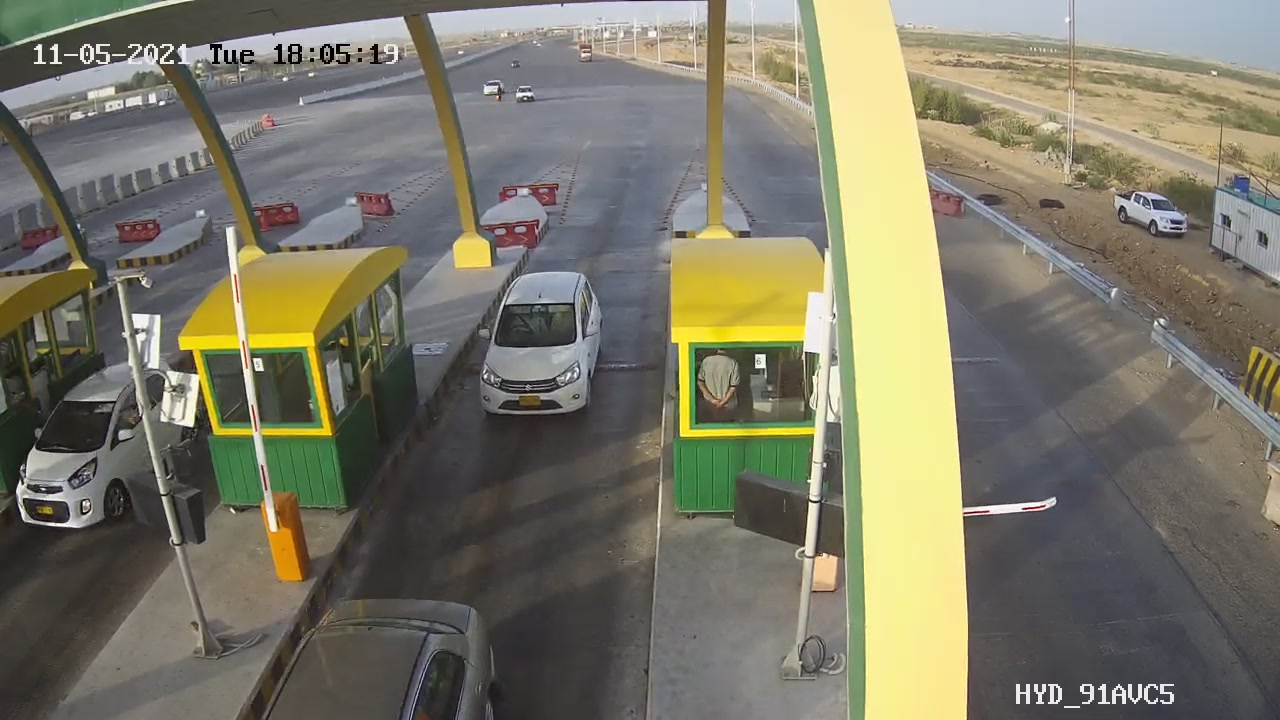F1: (455, 252, 639, 465)
